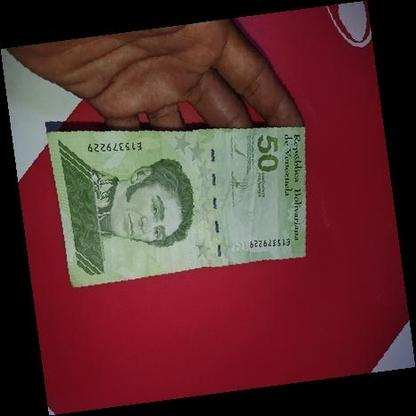fifty-front-vef: (44, 124, 308, 288)
